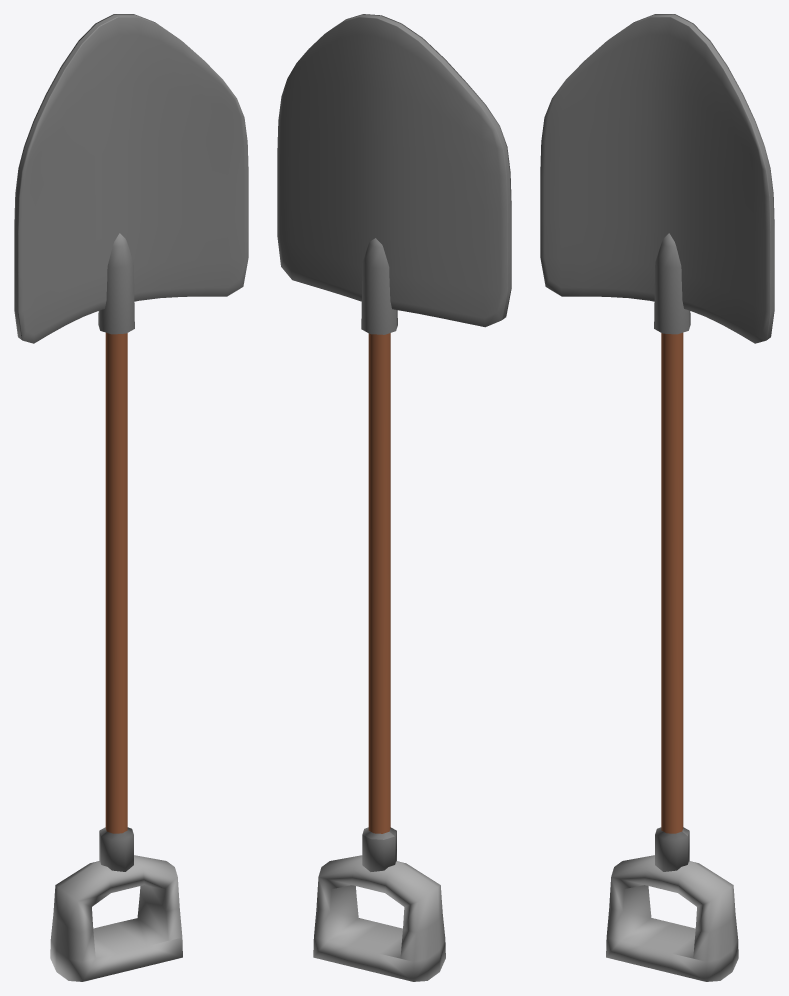
Rendered from shovel.fbx.
3 renders of one model, left to right at view 1: azimuth 30°, elevation 25°; view 2: azimuth 150°, elevation 25°; view 3: azimuth 330°, elevation 25°, orthographic.
Parts seen in each view (by area): view 1: shovel; view 2: shovel; view 3: shovel.
Boxes of the visible parts, left/top/right/bottom form: shovel: left=14, top=14, right=248, bottom=981; shovel: left=277, top=14, right=511, bottom=981; shovel: left=540, top=14, right=774, bottom=981.
Bounding box in the file's own units: 23.29 × 91.68 × 5.89.
